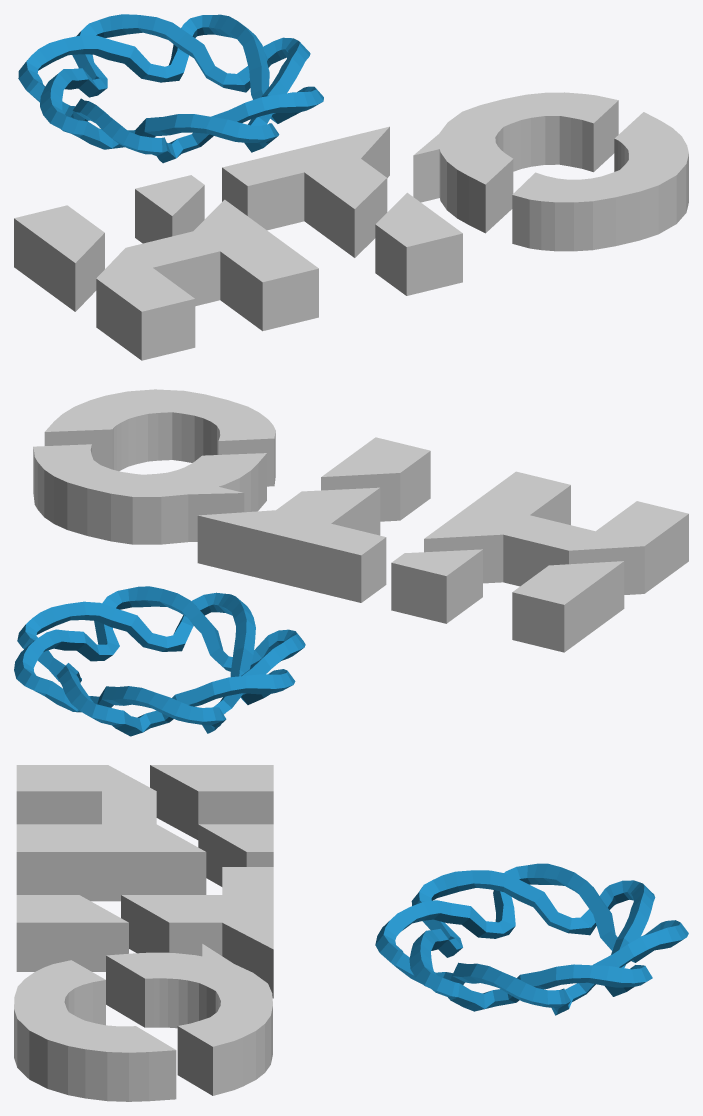
3 renders of one model, top to bottom at view 1: azimuth 30°, elevation 25°; view 2: azimuth 150°, elevation 25°; view 3: azimuth 270°, elevation 25°, orthographic. The views are drawn at different scales.
Parts seen in each view (by area): view 1: Plane, Torus.001, Torus; view 2: Plane, Torus.001, Torus; view 3: Plane, Torus, Torus.001.
Boxes of the visible parts, x1,y1,x2,y2 form: Plane: (14,92,688,360); Torus.001: (40,14,310,152); Torus: (18,14,323,163); Plane: (33,389,688,652); Torus.001: (17,592,295,736); Torus: (14,586,305,733); Plane: (14,765,273,1101); Torus: (409,870,655,1011); Torus.001: (375,863,688,1015).
Bounding box in the file's own units: 3.68 × 0.4069 × 3.65.
